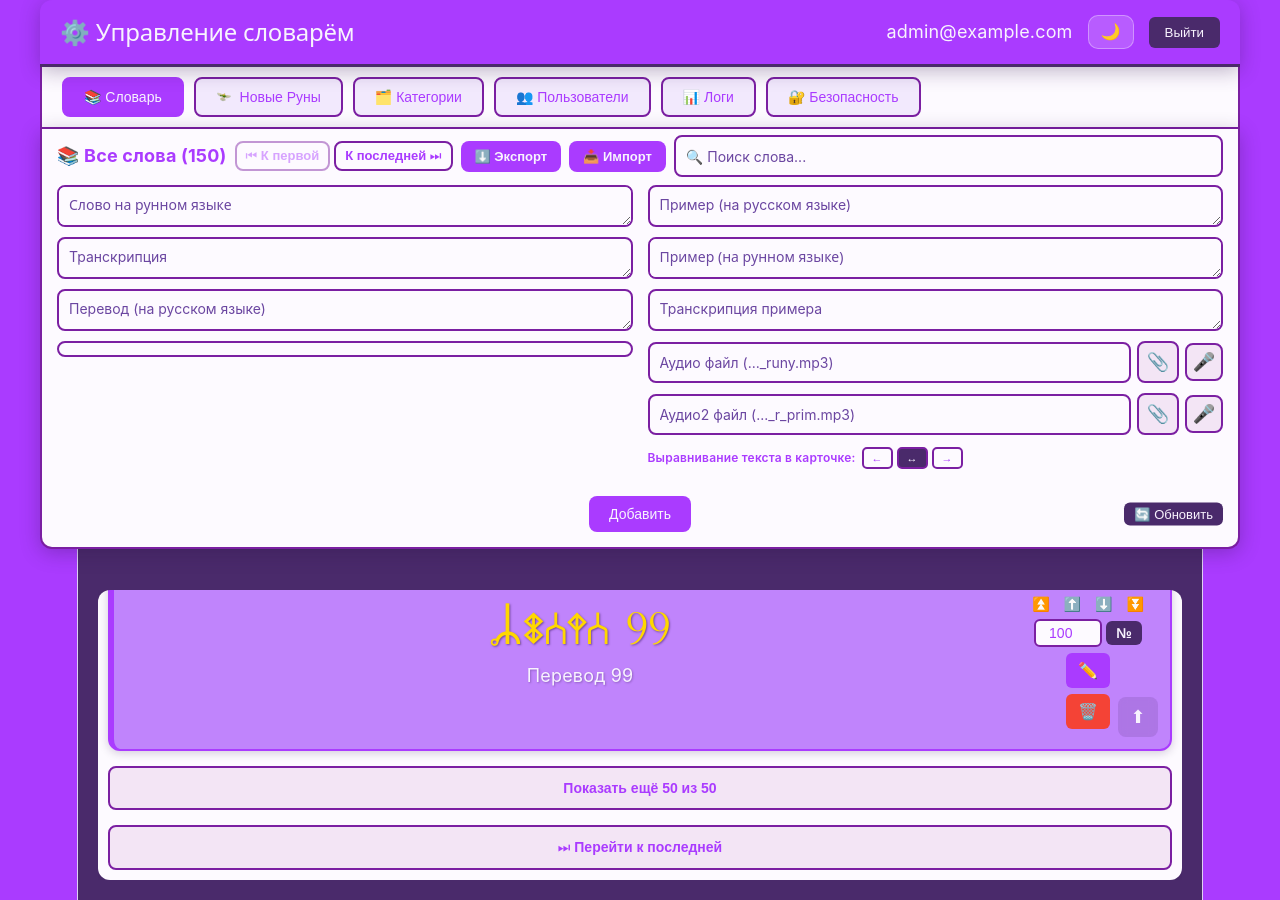
Scenario: AdminPanel: порционная отрисовка сетки слов › сначала показывает 100 карточек, остальные — по кнопке «Показать ещё»
(page scrolled)
Click the button "Показать ещё 50 из 50": [640, 788] box [108, 766, 1172, 810]
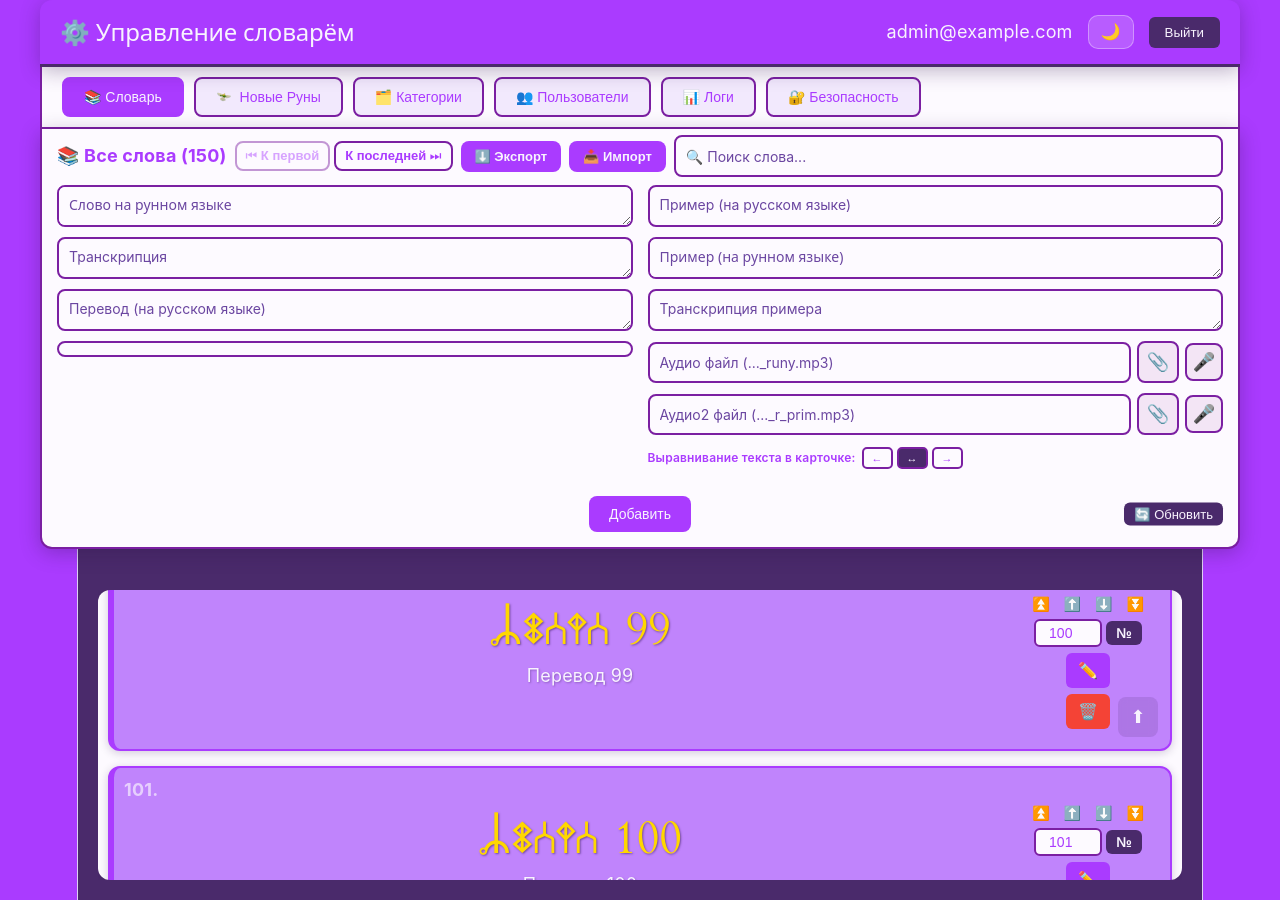
Check: the button "Показать ещё" is gone
